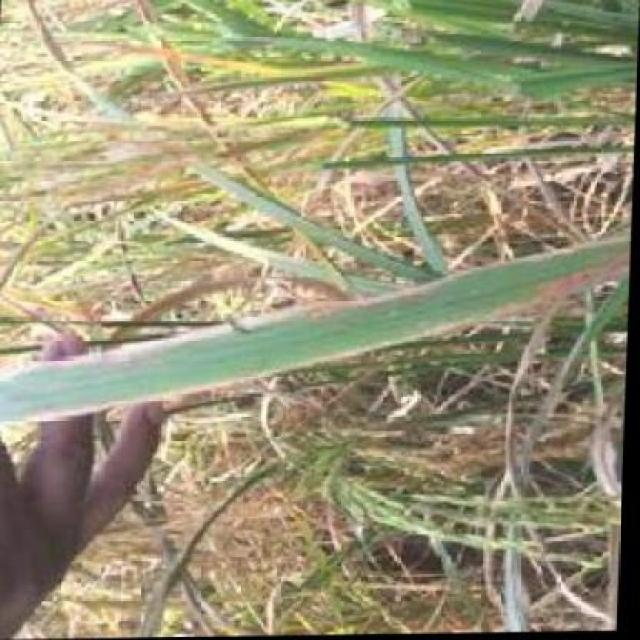Brown_Spot: (0, 267, 518, 386)
